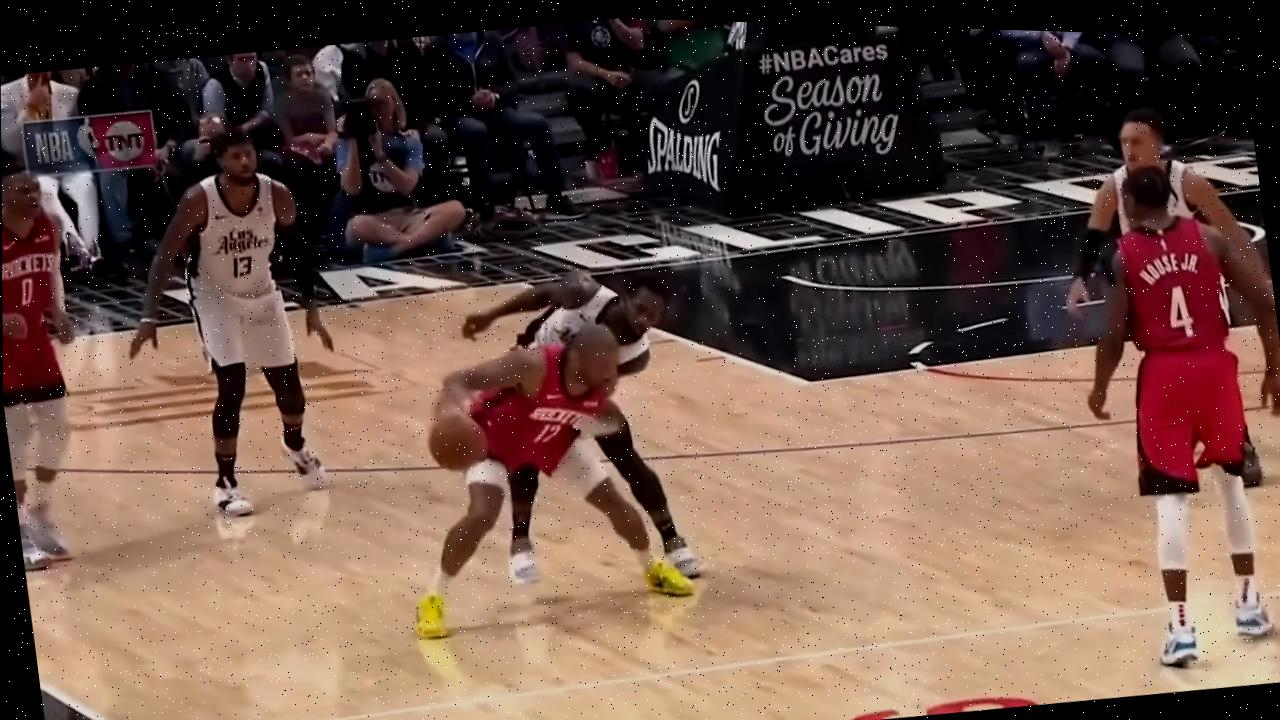foul: (409, 255, 726, 632)
